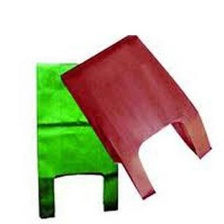plastic_bag: (53, 32, 212, 204), (22, 54, 126, 221)
